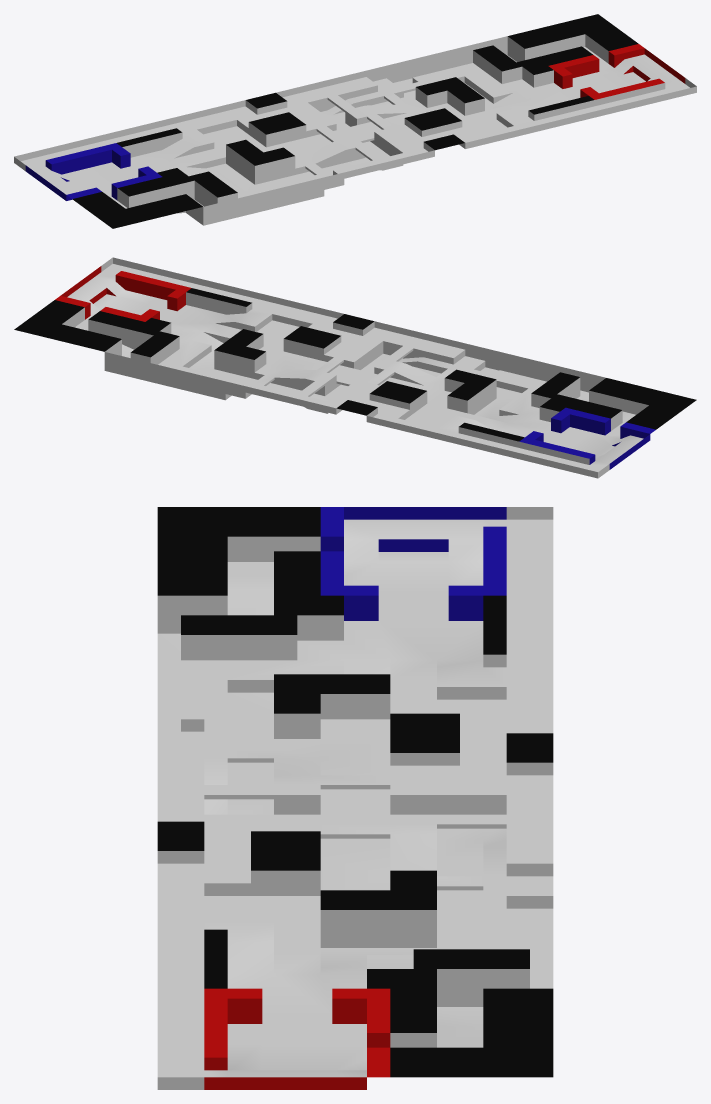
The model's file is level.FBX.
3 renders of one model, top to bottom at view 1: azimuth 30°, elevation 25°; view 2: azimuth 150°, elevation 25°; view 3: azimuth 270°, elevation 25°, orthographic. The views are drawn at different scales.
Parts seen in each view (by area): view 1: Plane001; view 2: Plane001; view 3: Plane001.
Boxes of the visible parts, x1,y1,x2,y2 form: Plane001: (14,14,696,228); Plane001: (14,257,696,478); Plane001: (157,507,553,1089).
Bounding box in the file's own units: 21750 × 675 × 6375.
